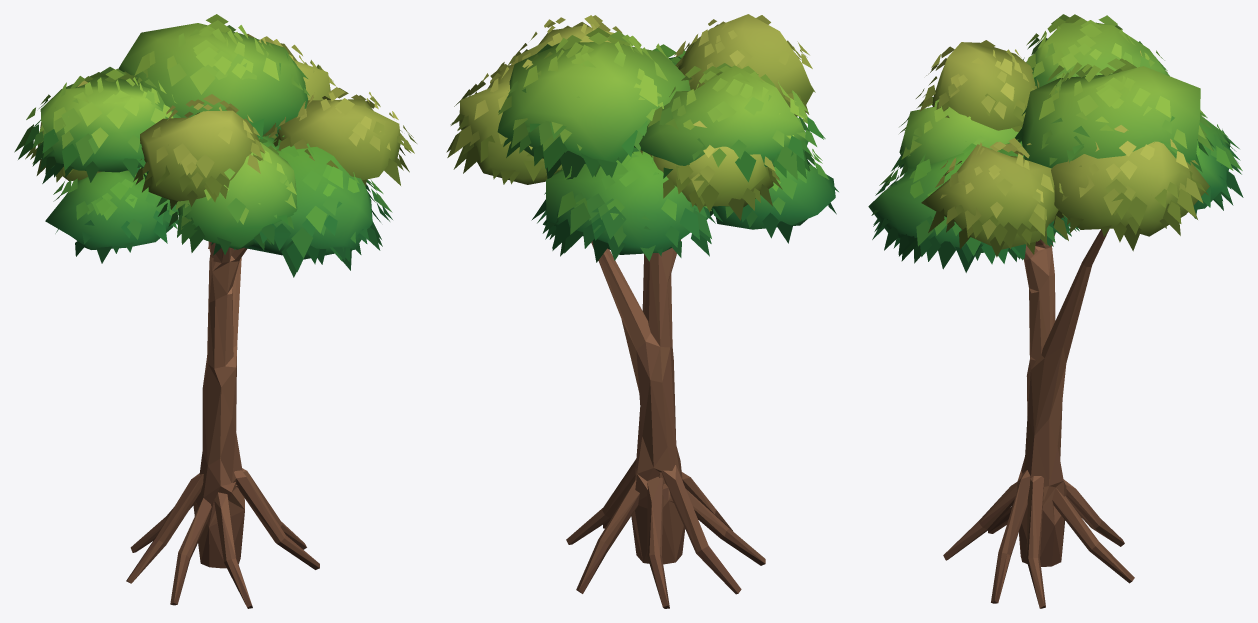
File: tree_buttress_0-DqTPGPni.glb
3 renders of one model, left to right at view 1: azimuth 30°, elevation 25°; view 2: azimuth 150°, elevation 25°; view 3: azimuth 270°, elevation 25°, orthographic. The views are drawn at different scales.
Parts seen in each view (by area): view 1: buttress; view 2: buttress; view 3: buttress.
Part boxes in pixels (bbox=[...]): buttress: bbox=[14, 14, 416, 608]; buttress: bbox=[446, 14, 838, 608]; buttress: bbox=[868, 14, 1243, 608].
Size of the model in its own units: 24.28 by 34.95 by 23.27.
